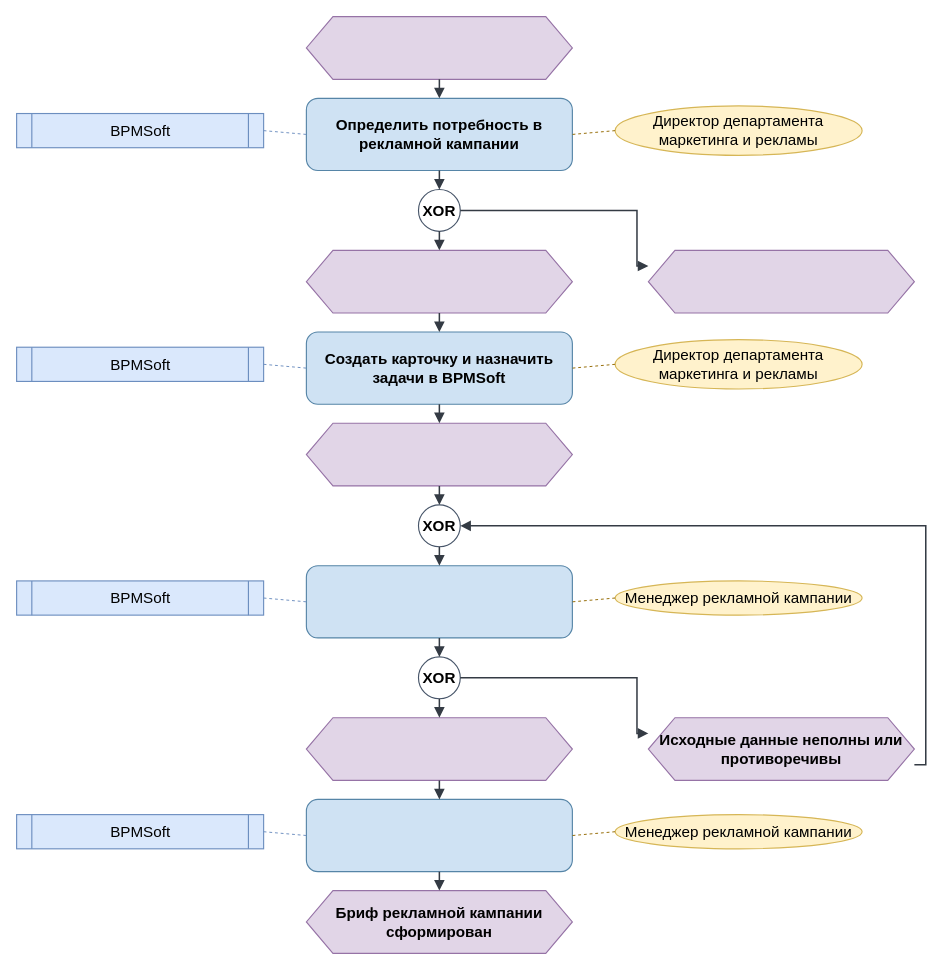
The diagram is 952 pixels wide and 971 high, and some of its shapes have lost their labels. Each missing label, with the centre of its shape:
"Возникла потребность в проведении рекламной кампании" belongs at (x=438, y=47).
"Задача на проведение кампании сформирована" belongs at (x=438, y=454).
"Исходные данные полны и проверены" belongs at (x=438, y=749).
"Оформлено решение об отказе от проведения кампании" belongs at (x=780, y=281).
"Принято решение о проведении кампании" belongs at (x=438, y=281).
"Проверить и дополнить исходные данные в BPMSoft" belongs at (x=438, y=601).
"Сформировать и проверить электронный бриф" belongs at (x=438, y=835).
